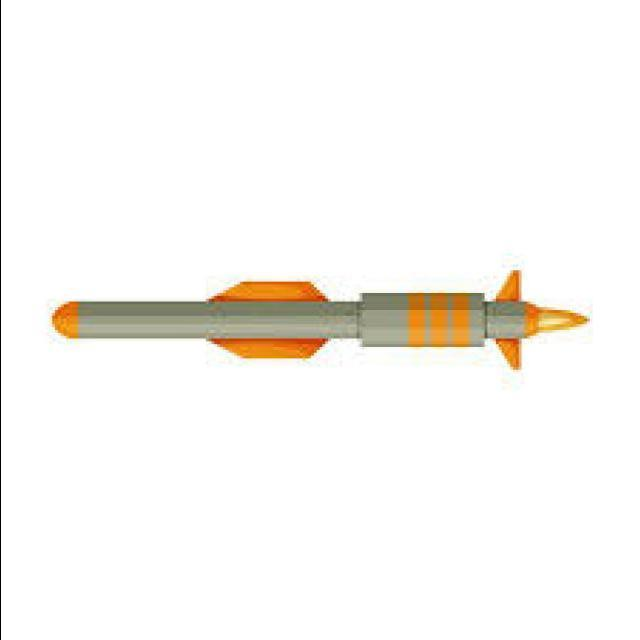missile: (20, 287, 596, 357)
